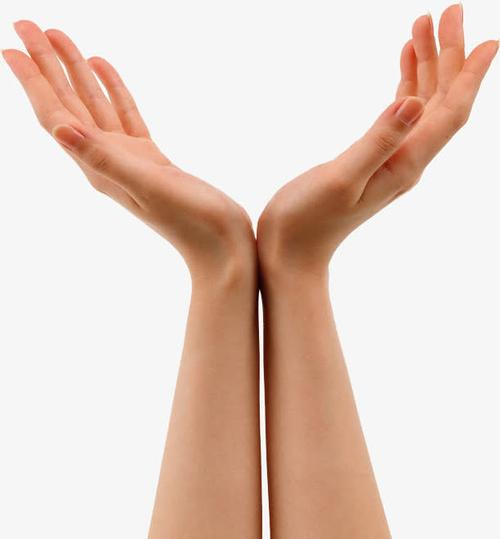no-phone: (2, 16, 256, 279), (255, 1, 499, 270)
